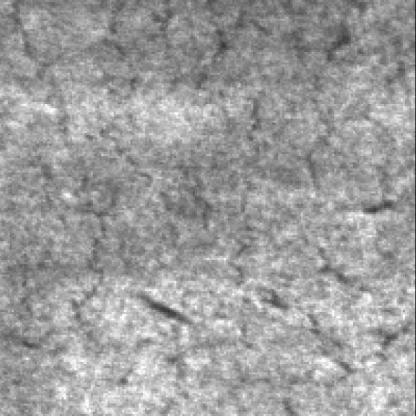crazing: (4, 2, 214, 356), (218, 73, 408, 412)
